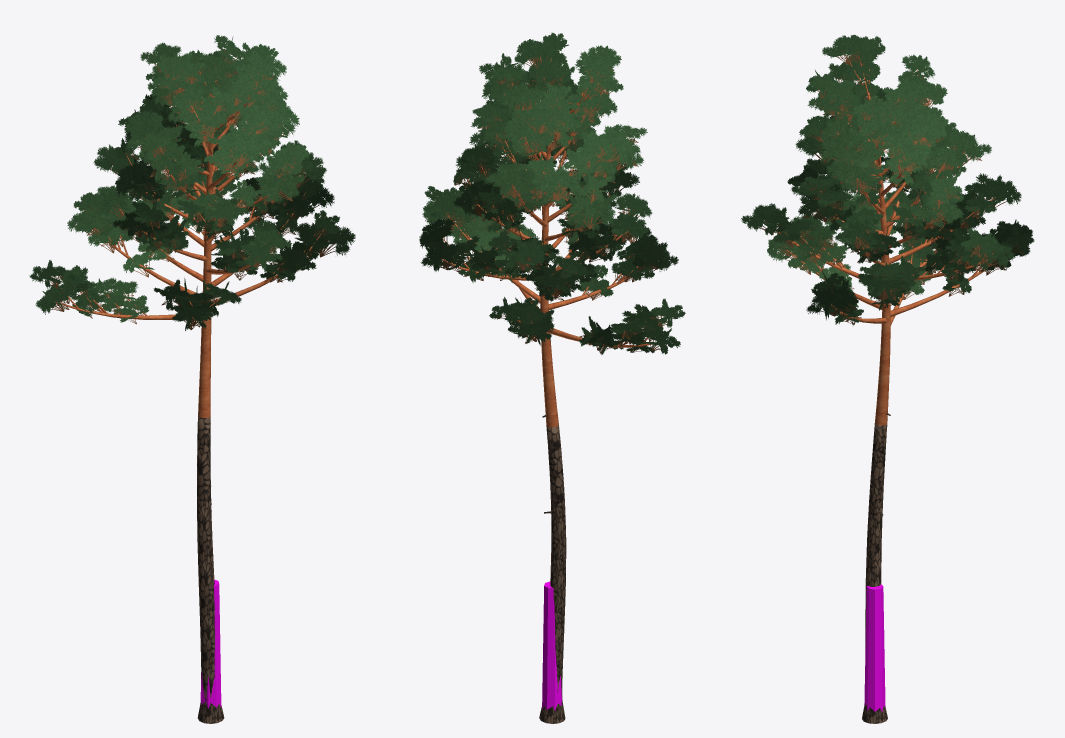
File: EN_Tree_Pine_A.fbx
3 views of the same model, side by side, from view 1: azimuth 30°, elevation 25°; view 2: azimuth 150°, elevation 25°; view 3: azimuth 270°, elevation 25° (orthographic). The views are drawn at different scales.
Parts seen in each view (by area): view 1: EN_Tree_Pine_A_LOD0, COL_Trunk; view 2: EN_Tree_Pine_A_LOD0, COL_Trunk; view 3: EN_Tree_Pine_A_LOD0, COL_Trunk.
Boxes of the visible parts, bbox=[...] form: EN_Tree_Pine_A_LOD0: bbox=[29, 35, 355, 723]; COL_Trunk: bbox=[200, 579, 221, 708]; EN_Tree_Pine_A_LOD0: bbox=[419, 32, 685, 723]; COL_Trunk: bbox=[542, 581, 562, 710]; EN_Tree_Pine_A_LOD0: bbox=[741, 35, 1034, 723]; COL_Trunk: bbox=[864, 584, 885, 711].
Size of what is drawn, in the model's own units: 9.36 by 20.82 by 8.83.
